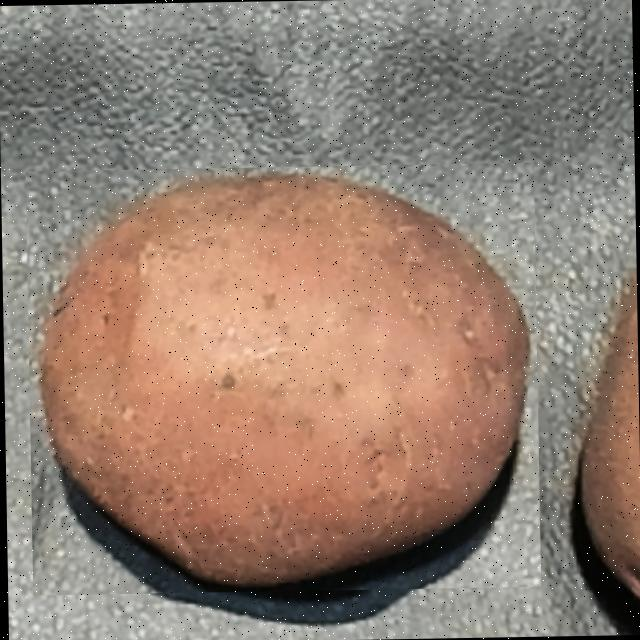Diseased-fungal potato: (26, 162, 540, 595)
